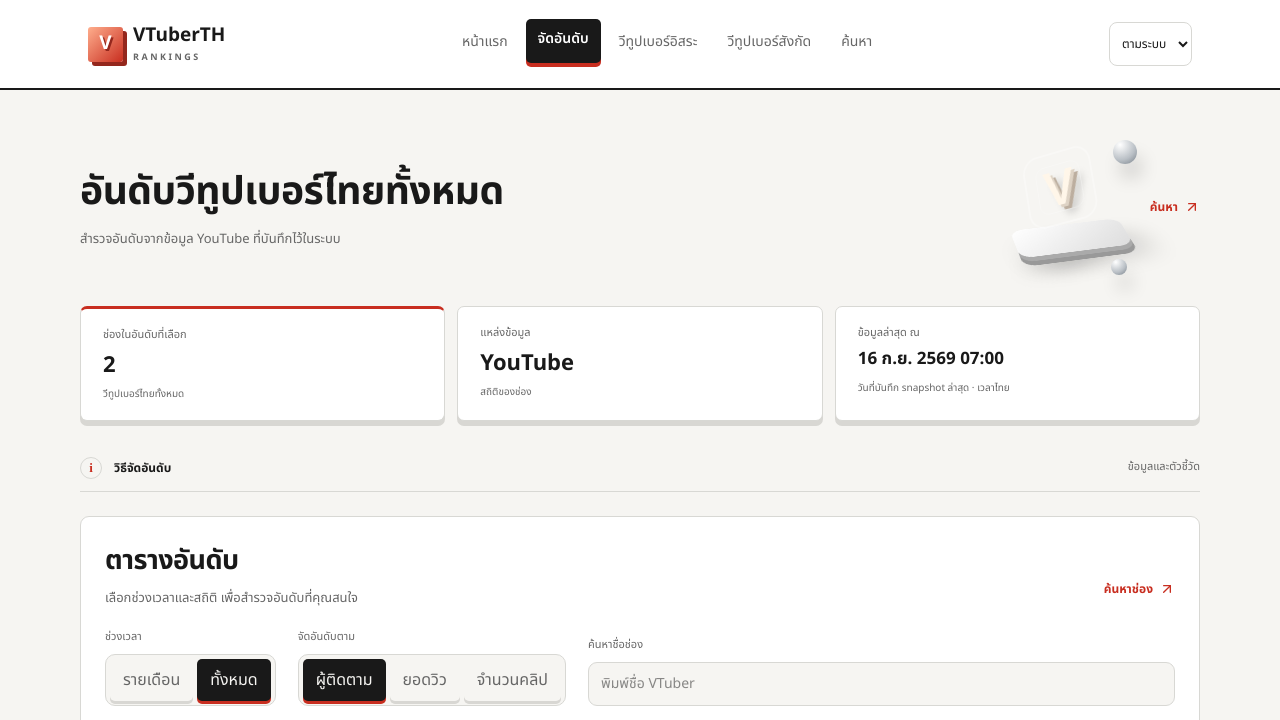
Test case: Public stats journey › shows only channels from the selected ranking menu
The image size is (1280, 720).
Click the link "วีทูปเบอร์อิสระ" at (659, 42), box [619,31,698,52]
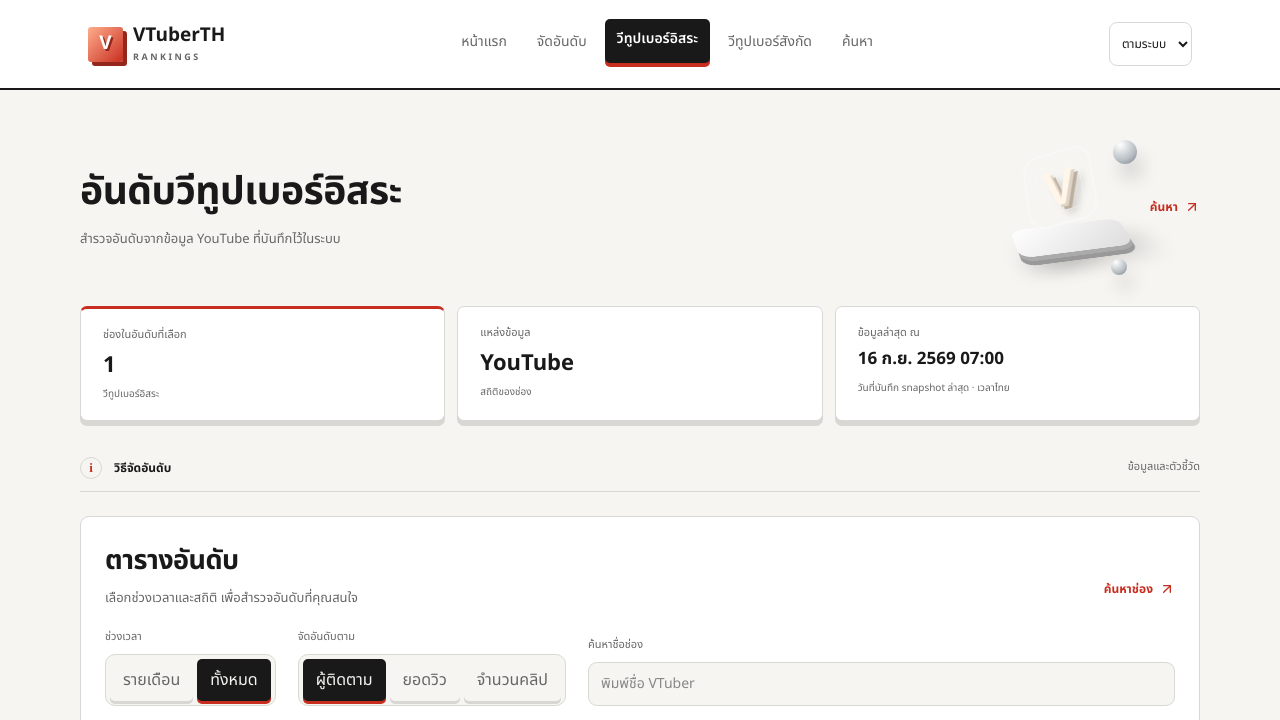
Now the heading "อันดับวีทูปเบอร์อิสระ" is shown, box [80,164,402,222]
Click the link "วีทูปเบอร์สังกัด" at (770, 42), box [728,31,812,52]
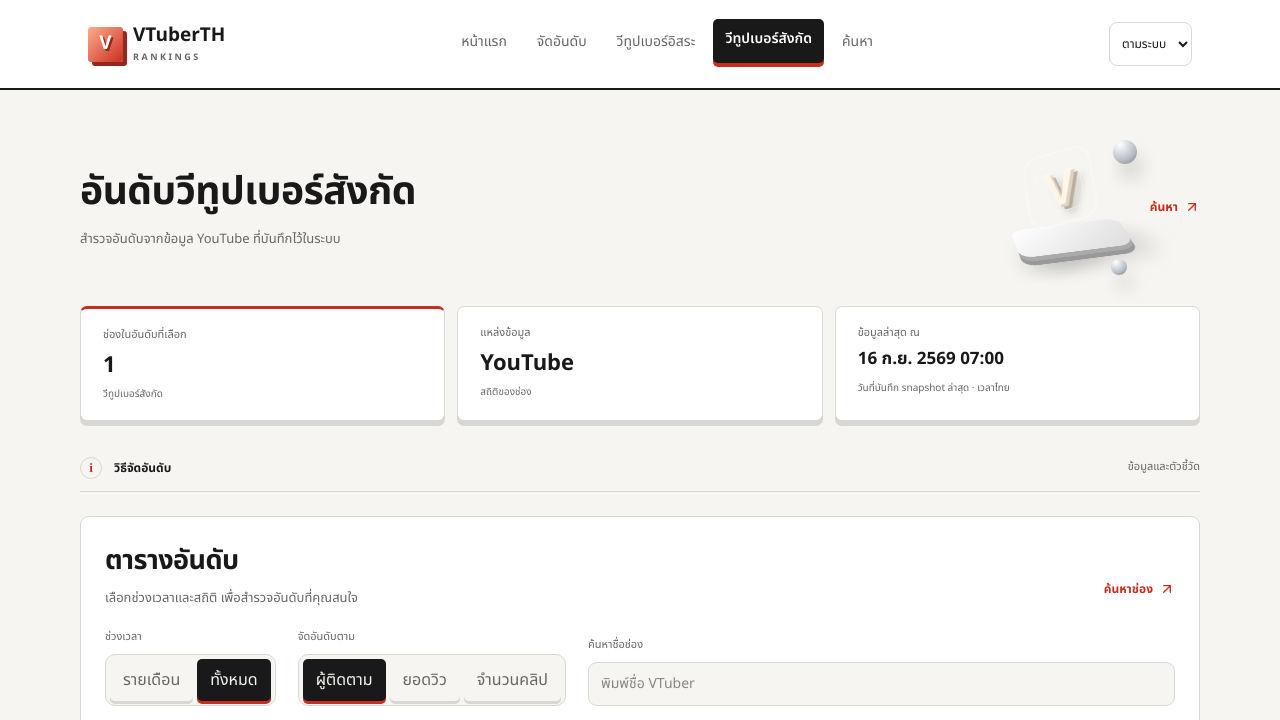
Now the heading "อันดับวีทูปเบอร์สังกัด" is shown, box [80,164,416,222]
